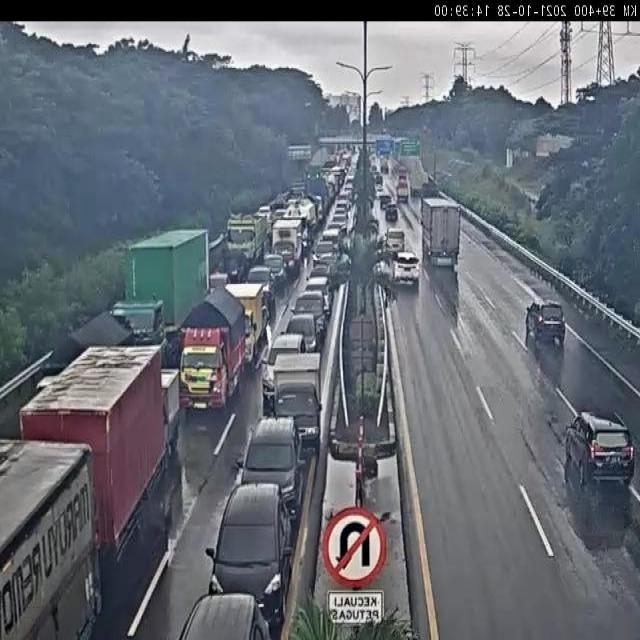Car: (207, 482, 294, 631), (235, 418, 305, 515), (563, 409, 635, 488), (176, 591, 274, 640), (262, 332, 306, 403), (524, 300, 565, 350), (284, 312, 321, 360), (289, 290, 326, 336), (246, 263, 279, 303), (302, 275, 332, 315), (392, 250, 422, 288), (216, 248, 249, 278), (264, 254, 288, 292), (314, 239, 336, 265), (319, 228, 341, 254), (305, 262, 333, 282), (326, 221, 344, 240), (332, 213, 348, 234), (385, 202, 398, 222), (379, 192, 392, 209), (258, 204, 271, 220), (375, 185, 385, 199), (381, 158, 388, 174), (375, 174, 383, 185)
Truck: (16, 340, 168, 568), (0, 438, 99, 640), (114, 228, 210, 344), (178, 282, 246, 410), (35, 311, 137, 390), (270, 352, 325, 452), (224, 282, 272, 374), (421, 195, 462, 267), (224, 207, 268, 266), (270, 216, 306, 278), (162, 368, 182, 452), (284, 197, 317, 243), (303, 176, 329, 215), (409, 167, 428, 200), (420, 180, 439, 207), (307, 164, 321, 184), (370, 154, 378, 170), (398, 166, 407, 178)
Van: (385, 228, 405, 254)
